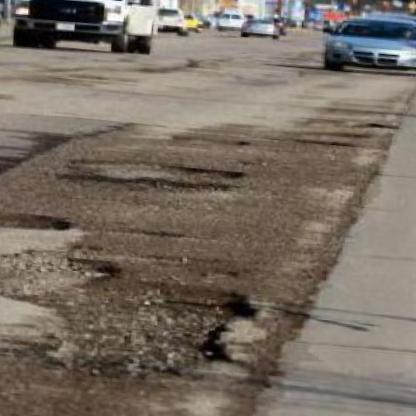pothole: (47, 269, 265, 394), (54, 166, 243, 208), (0, 245, 122, 307), (72, 152, 247, 177), (0, 199, 82, 240), (169, 130, 257, 151)
